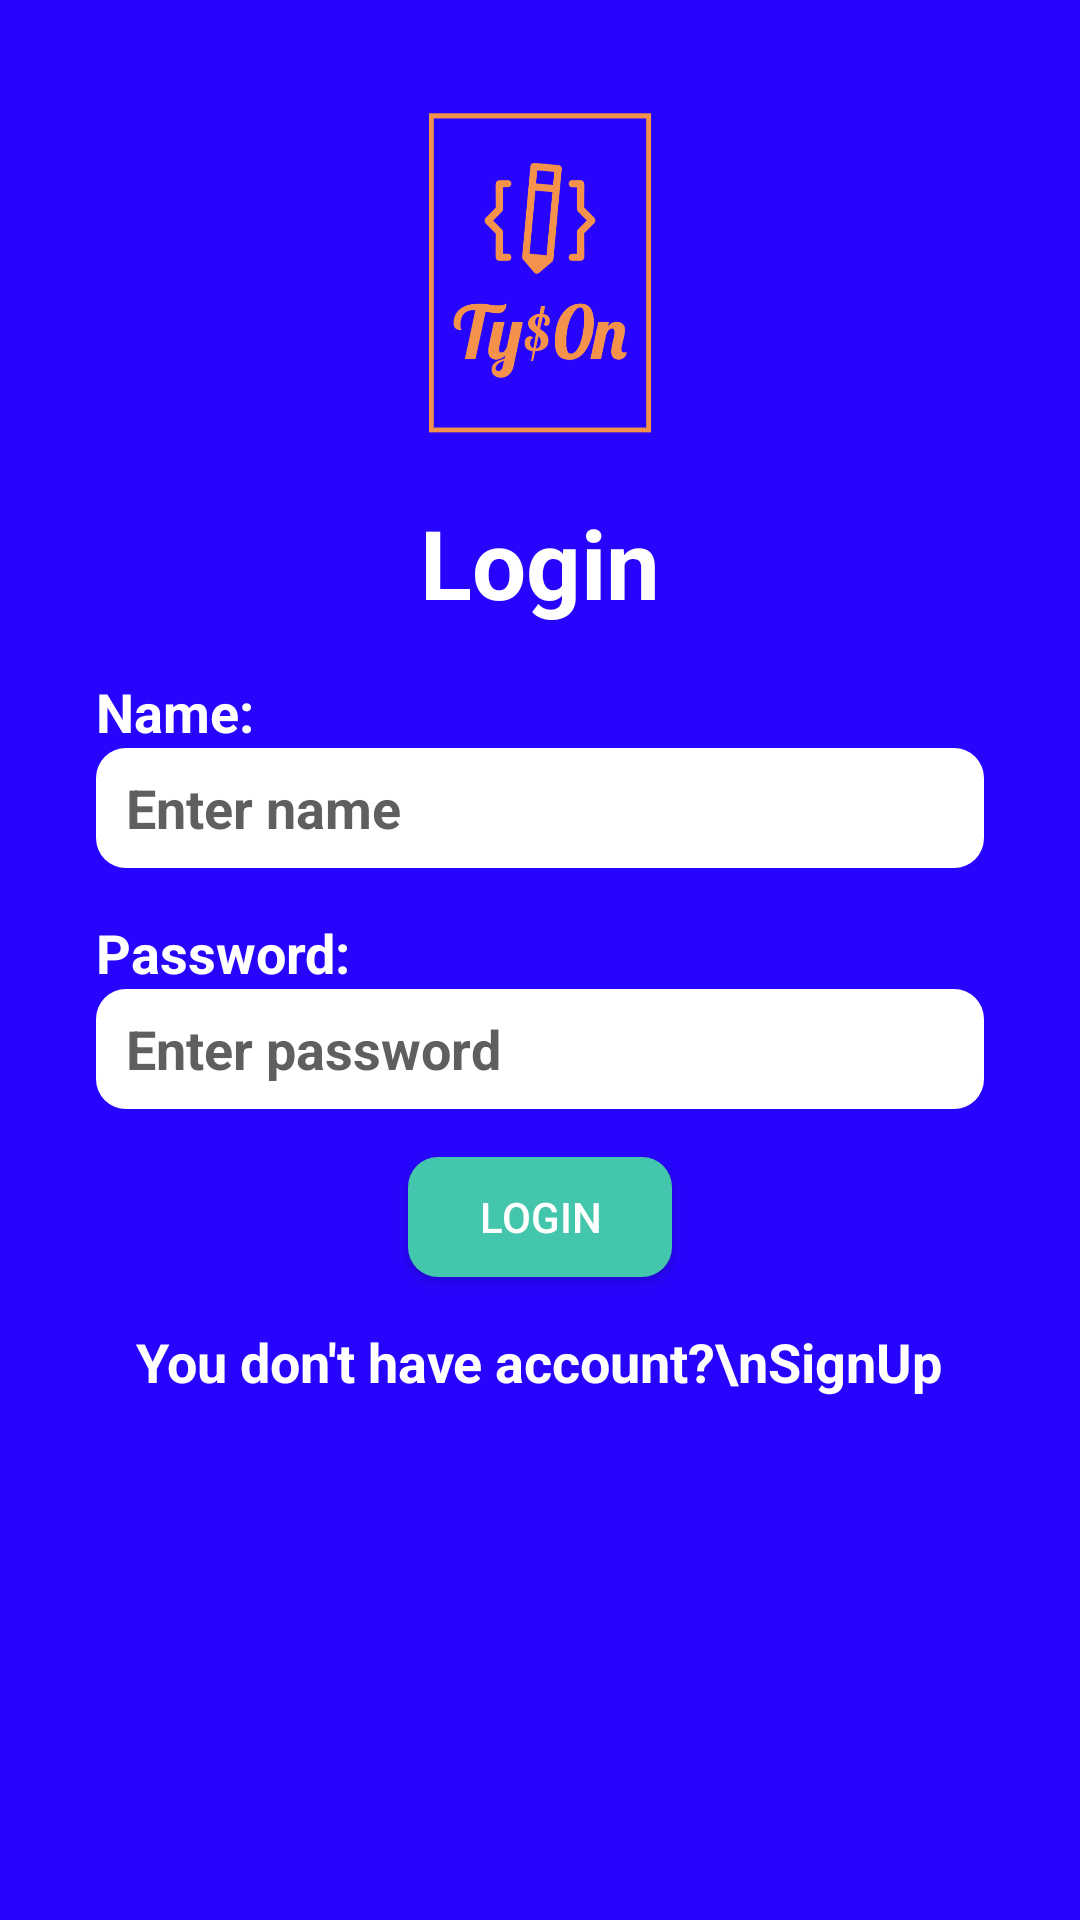

Point at icon controls on the screen. Image size 1080×1920, points as point (x, y).
log: point (540, 273)
